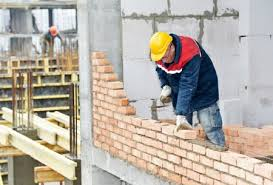casco: (149, 32, 174, 62), (48, 25, 58, 36)
